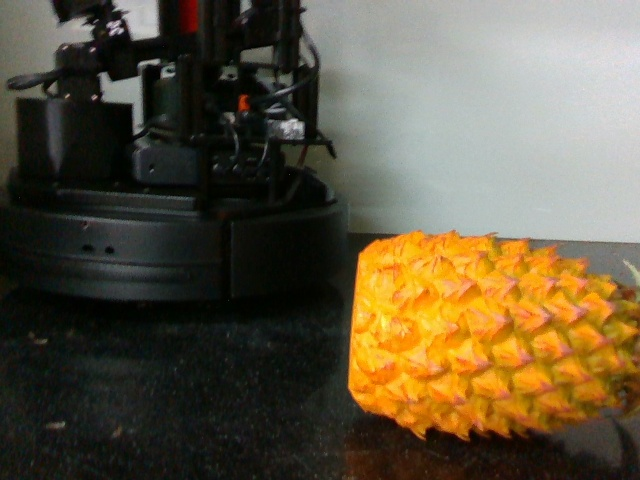pineapple: (343, 226, 640, 443)
